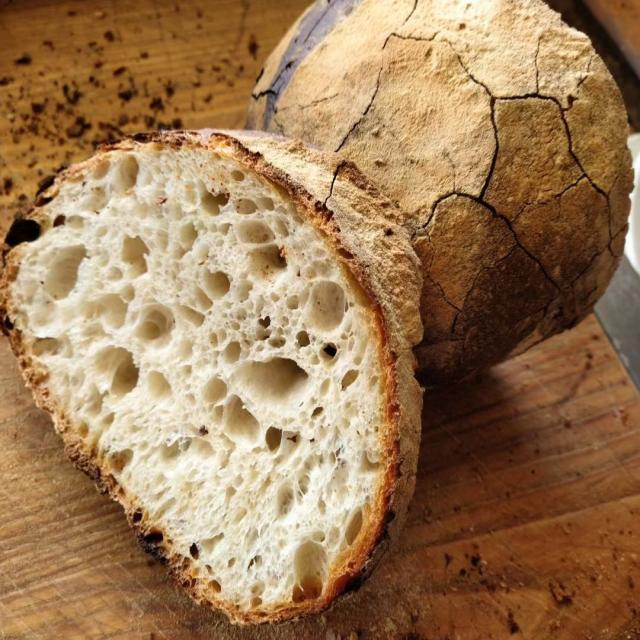Maltese-Bread: (0, 130, 423, 624), (246, 0, 631, 384)
